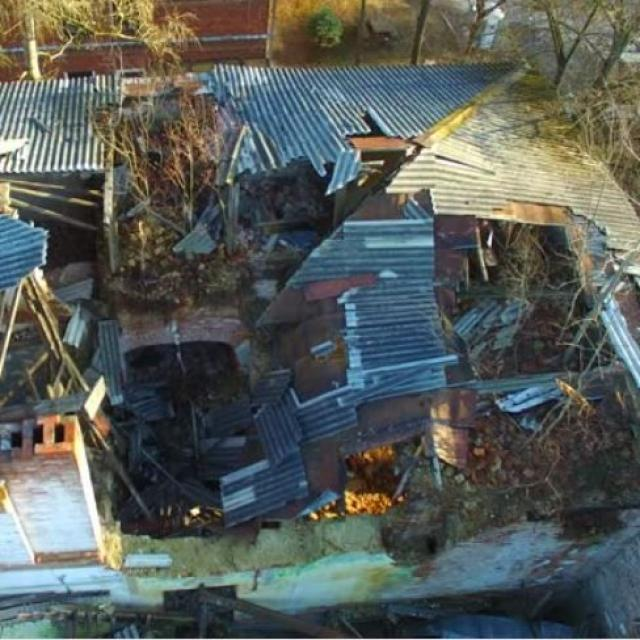collapsed_building: (0, 67, 639, 580)
